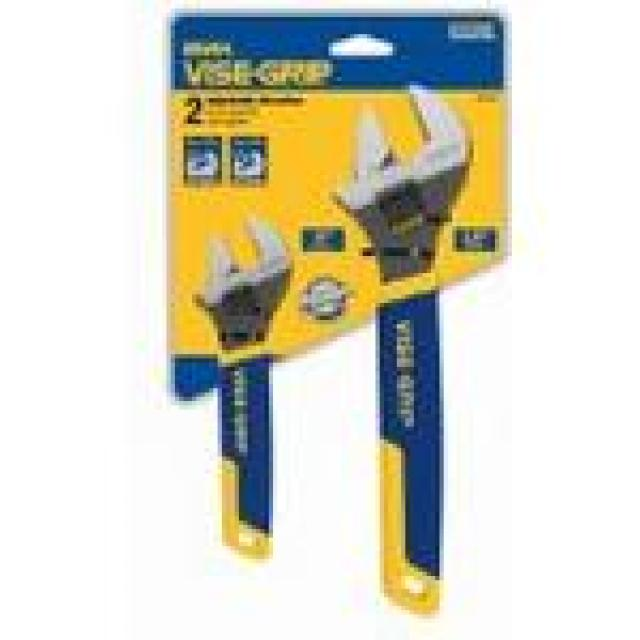wrench: (324, 70, 474, 613), (168, 209, 322, 567)
